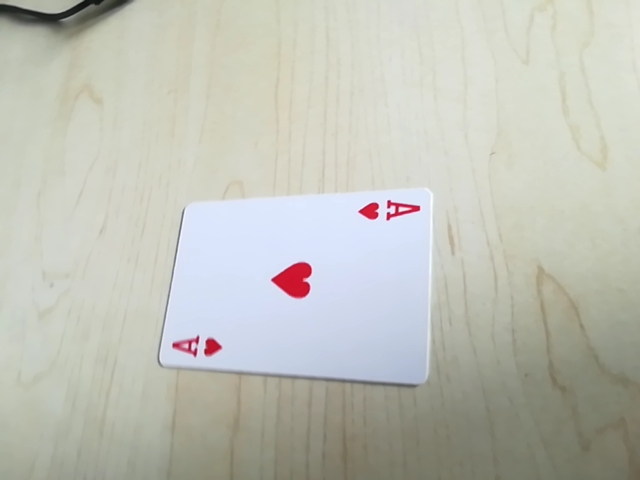hx a: (354, 192, 424, 229), (164, 328, 230, 362)
